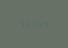four: (18, 19, 23, 27)
nine: (42, 20, 47, 28)
seven: (30, 19, 35, 28)
six: (24, 19, 29, 27), (36, 20, 41, 28)
